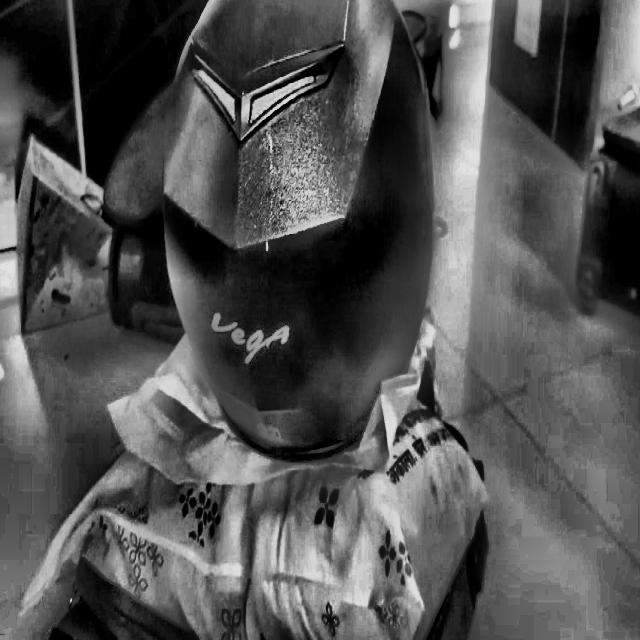Helmet: (156, 0, 435, 467)
